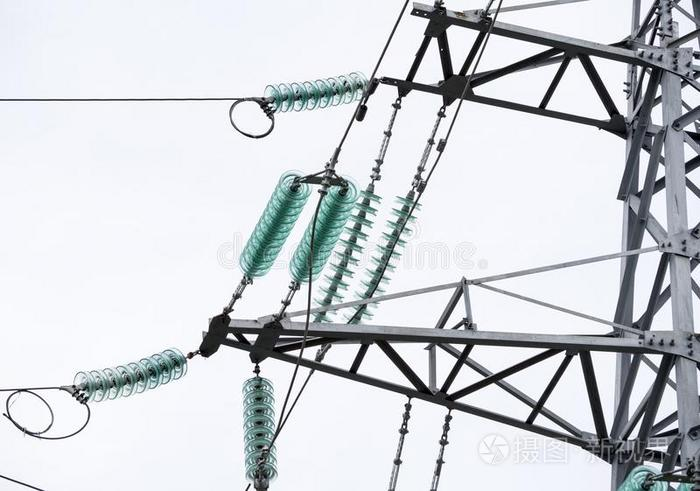insulator: (345, 192, 419, 325), (312, 188, 377, 321), (242, 168, 308, 278), (293, 178, 353, 282), (74, 347, 187, 401), (267, 69, 370, 109), (242, 378, 280, 482)
